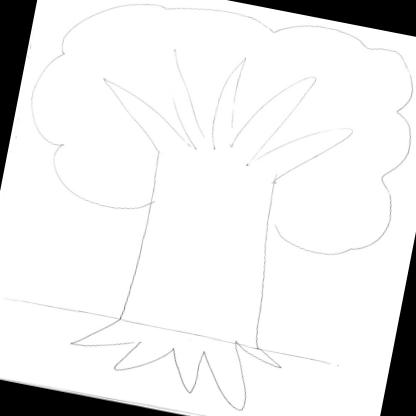branch_sharp: (87, 33, 364, 193)
crown_cloud: (8, 0, 416, 269)
root_under: (60, 298, 291, 416)
trunk_straight: (118, 208, 281, 334)
